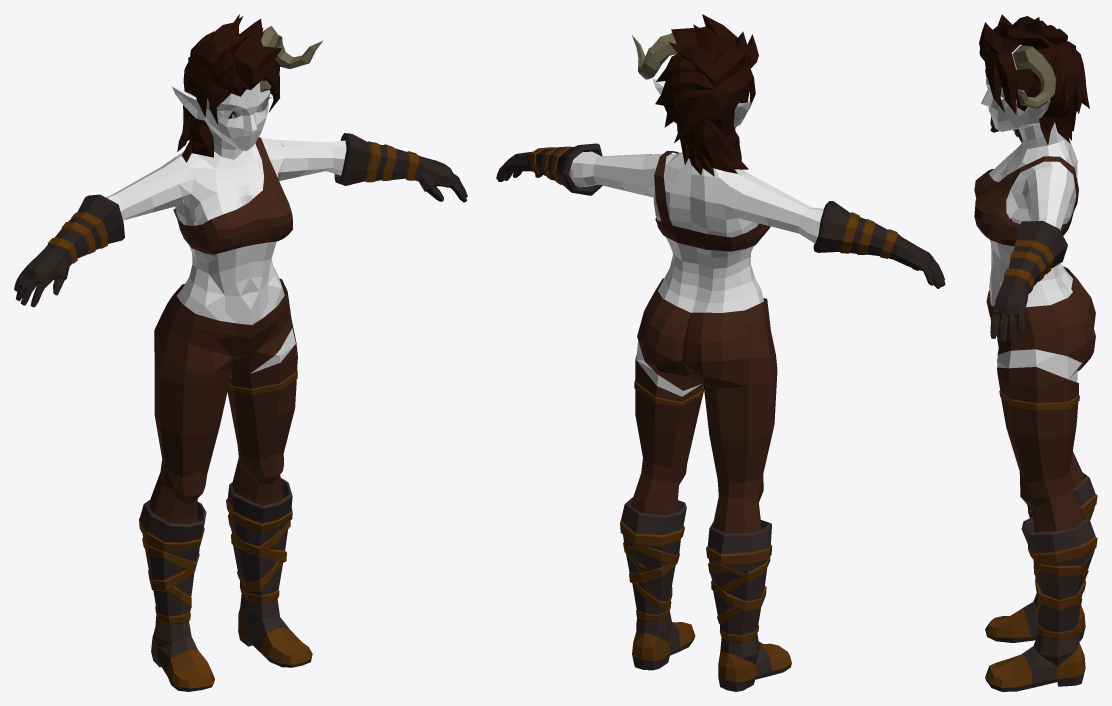
The picture shows the model from 3 angles, left to right: view 1: azimuth 30°, elevation 25°; view 2: azimuth 150°, elevation 25°; view 3: azimuth 270°, elevation 25°; orthographic projection.
Visible parts, largest first — view 1: Panty.002, Boots, Body, Gloves, Hair.002, Shirt.001, arm.001, face.002, Horn.001; view 2: Panty.002, Boots, Body, Hair.002, Gloves, arm.001, Shirt.001, Horn.001; view 3: Panty.002, Boots, Body, Hair.002, Gloves, Shirt.001, arm.001, Horn.001, face.002, ears.
Part boxes in pixels (x1=…): Panty.002: x1=149, y1=278, x2=297, y2=523; Boots: x1=139, y1=478, x2=312, y2=691; Body: x1=161, y1=110, x2=295, y2=377; Gloves: x1=14, y1=133, x2=467, y2=307; Hair.002: x1=177, y1=14, x2=282, y2=162; Shirt.001: x1=173, y1=137, x2=292, y2=254; arm.001: x1=106, y1=140, x2=346, y2=220; face.002: x1=190, y1=82, x2=270, y2=151; Horn.001: x1=259, y1=26, x2=323, y2=92; Panty.002: x1=631, y1=278, x2=777, y2=533; Boots: x1=620, y1=497, x2=791, y2=691; Body: x1=636, y1=152, x2=763, y2=396; Hair.002: x1=655, y1=14, x2=758, y2=176; Gloves: x1=496, y1=143, x2=945, y2=288; arm.001: x1=568, y1=151, x2=823, y2=243; Shirt.001: x1=654, y1=150, x2=770, y2=251; Horn.001: x1=632, y1=33, x2=677, y2=79; Panty.002: x1=986, y1=266, x2=1095, y2=531; Boots: x1=985, y1=472, x2=1097, y2=691; Body: x1=989, y1=122, x2=1082, y2=382; Hair.002: x1=979, y1=14, x2=1089, y2=145; Gloves: x1=990, y1=116, x2=1067, y2=341; Shirt.001: x1=974, y1=156, x2=1078, y2=246; arm.001: x1=1026, y1=180, x2=1072, y2=230; Horn.001: x1=985, y1=45, x2=1056, y2=108; face.002: x1=981, y1=44, x2=1039, y2=131; ears: x1=1028, y1=100, x2=1050, y2=118.
Bounding box in the file's own units: 215 × 51.06 × 297.
